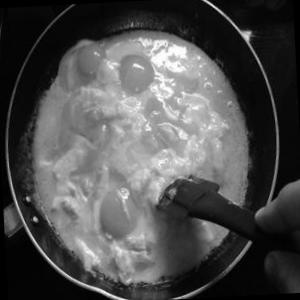omelet: (8, 15, 276, 297)
